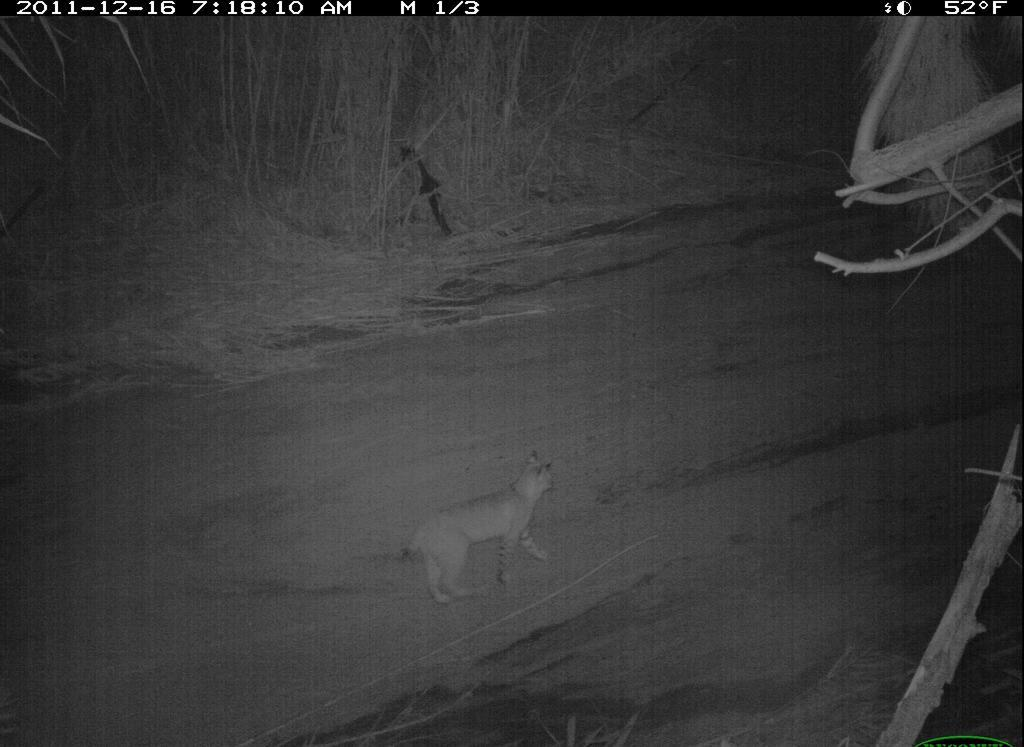bobcat: (404, 446, 559, 610)
